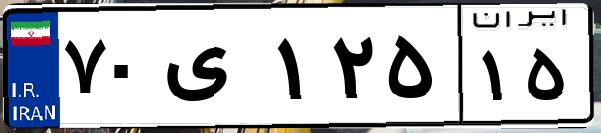0: (110, 28, 158, 98)
1: (270, 28, 330, 110), (475, 38, 525, 113)
2: (330, 28, 385, 110)
5: (385, 28, 445, 110), (525, 38, 570, 115)
7: (57, 26, 110, 100)
ی: (158, 20, 270, 120)
